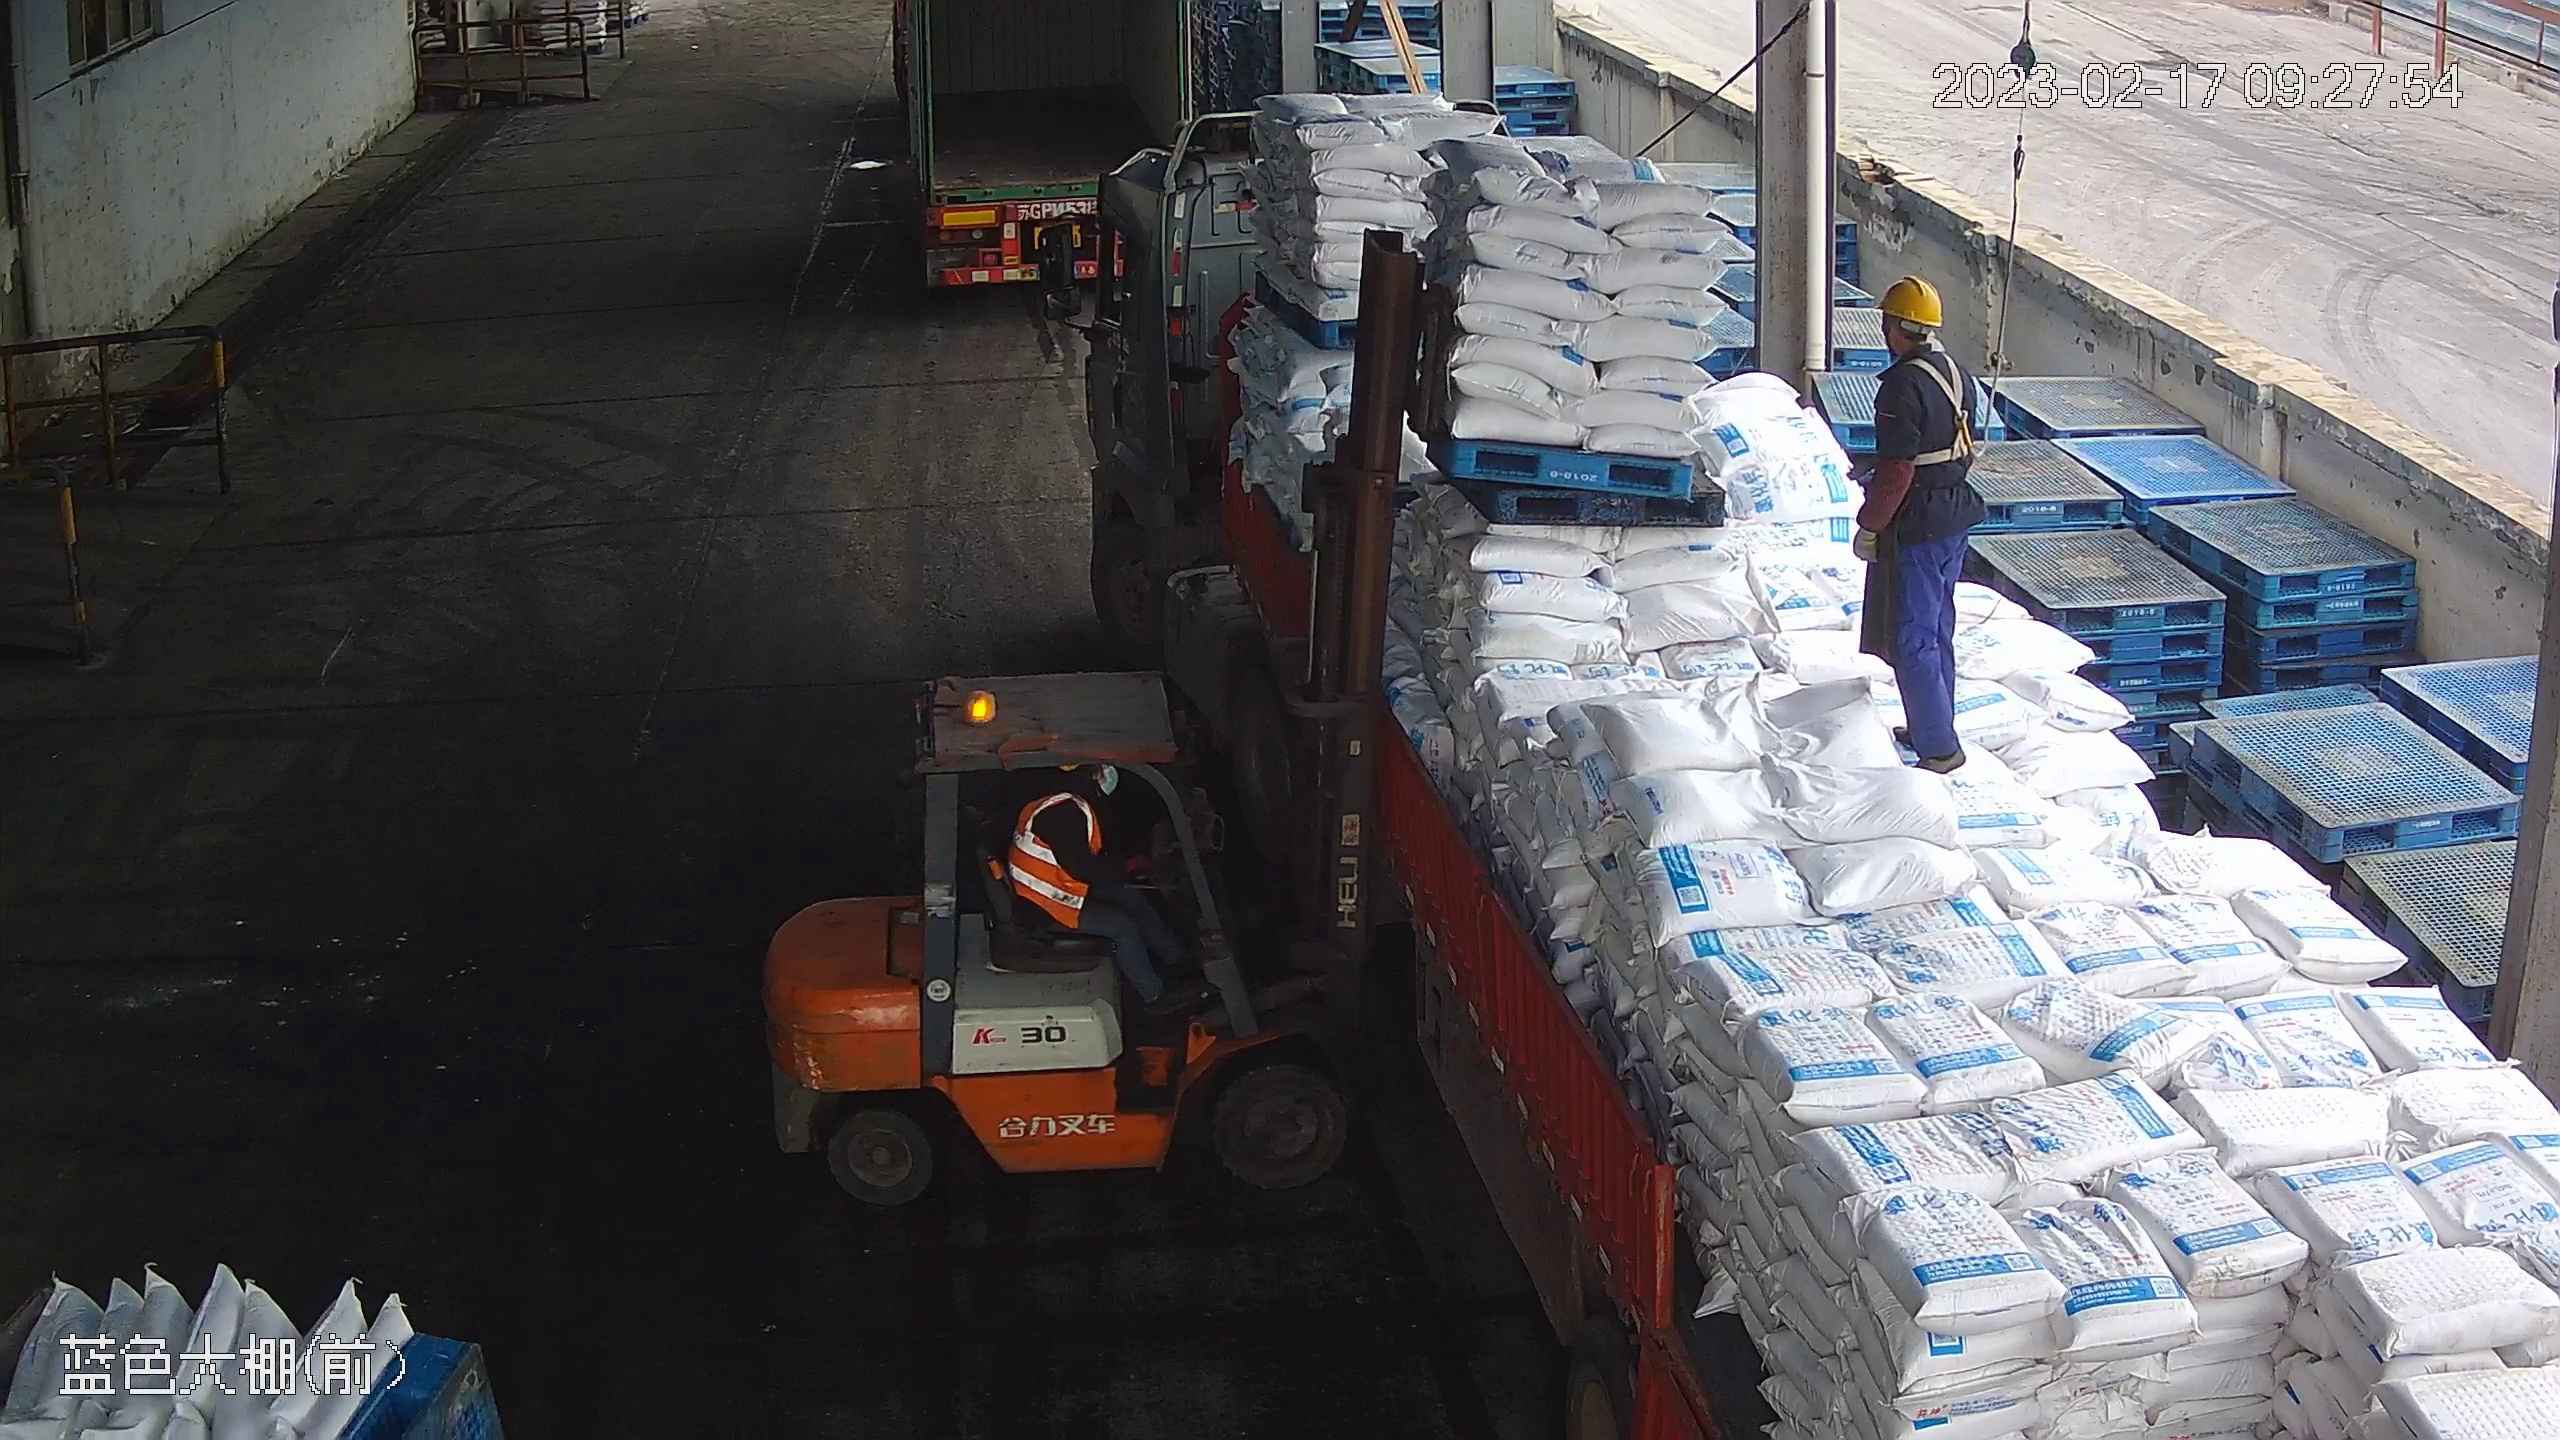belt: (1900, 351, 1988, 467)
head: (1858, 271, 1983, 420)
helmet: (1874, 271, 1943, 326)
people: (1846, 268, 1984, 778), (999, 761, 1201, 1011)
truck: (1058, 91, 2553, 1440), (886, 1, 1210, 301)
